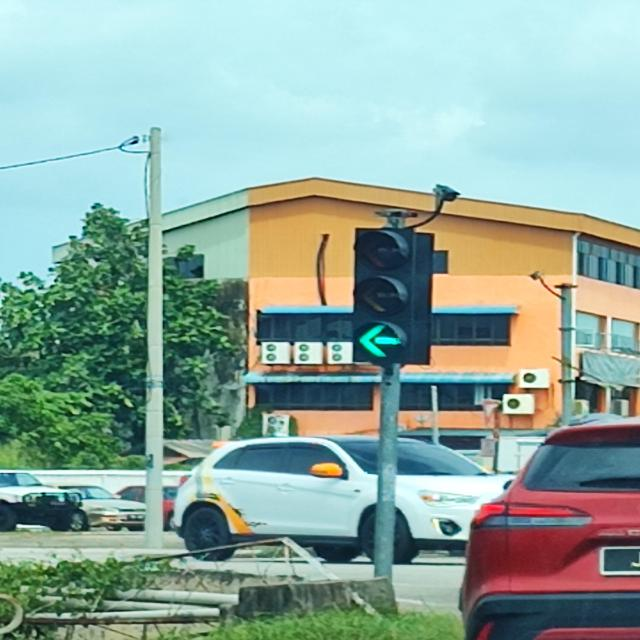bike: (0, 540, 24, 640)
car: (170, 434, 517, 565), (456, 413, 640, 640), (0, 470, 89, 534), (56, 485, 147, 533)
traffic light: (352, 227, 433, 367)
